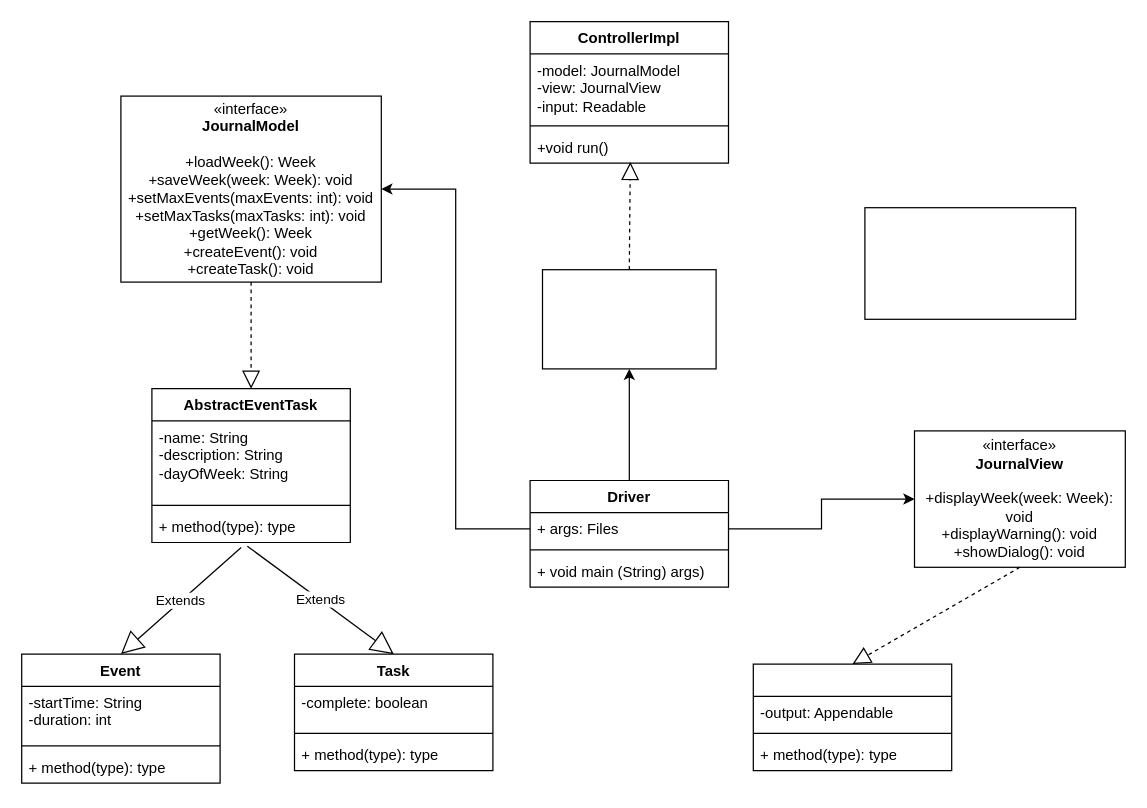
Some shapes in this 1147 by 808 pixel diagram are drawn without their labels. The shapes that lost their labels are listed below. From the top down, each one's box as (x1, y1, x2, y2) in pixels, then its label:
(864, 206, 1076, 319): «interface» FileHelper +readFile(): Week +writeFile(week: Week): void
(541, 268, 716, 369): «interface» Controller +void run()
(752, 663, 952, 771): StartView
